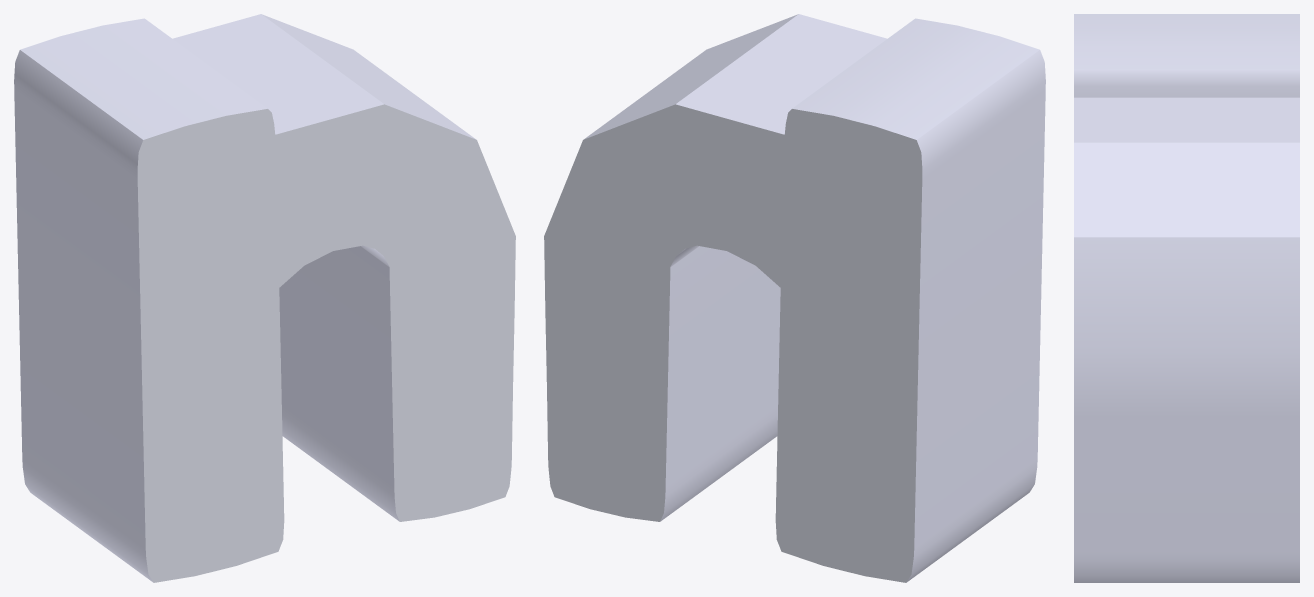
File: N_Zyzol_Grey.glb
3 renders of one model, left to right at view 1: azimuth 30°, elevation 25°; view 2: azimuth 150°, elevation 25°; view 3: azimuth 270°, elevation 25°, orthographic. The views are drawn at different scales.
Parts seen in each view (by area): view 1: n_Zyzol_Grey; view 2: n_Zyzol_Grey; view 3: n_Zyzol_Grey.
Boxes of the visible parts, left/top/right/bottom form: n_Zyzol_Grey: left=14, top=14, right=515, bottom=582; n_Zyzol_Grey: left=544, top=14, right=1045, bottom=582; n_Zyzol_Grey: left=1074, top=14, right=1299, bottom=582.
Size of what is drawn, in the model's own units: 0.0796 by 0.0911 by 0.045.
2 materials, 2 textured.
